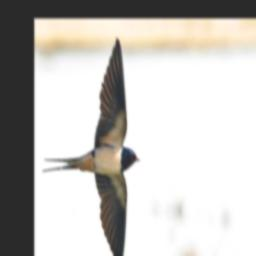Swallow: (42, 34, 141, 256)
